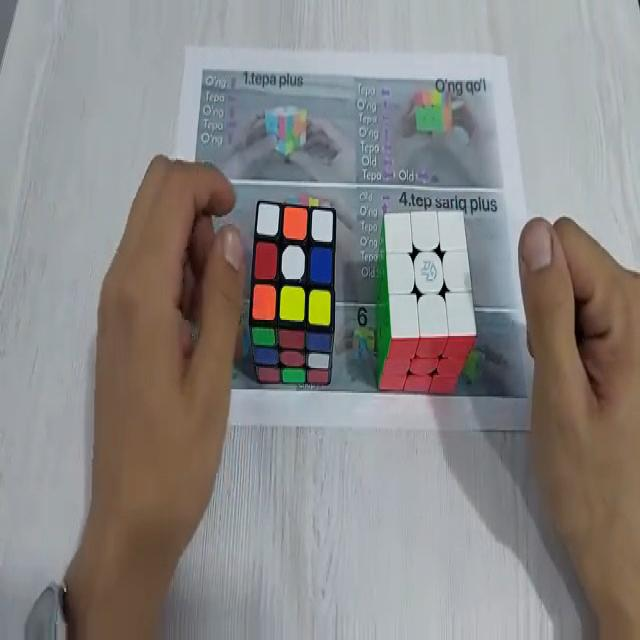Rub: (379, 204, 476, 398), (252, 204, 338, 382)
